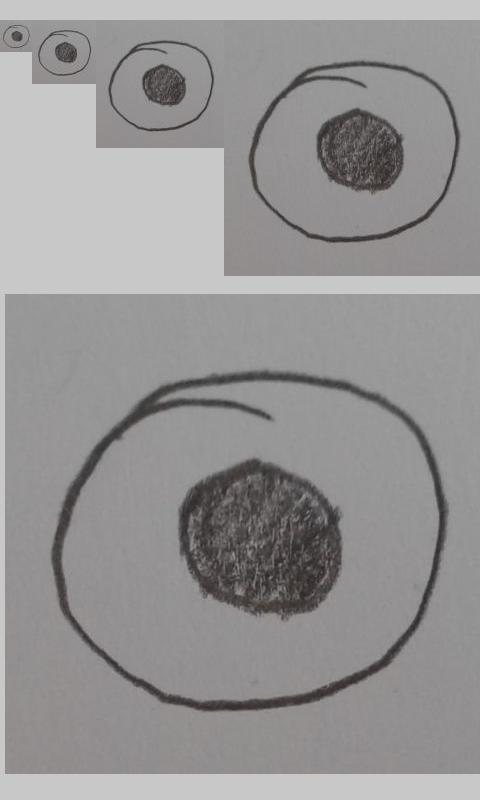radio_button: (49, 366, 449, 714), (246, 59, 462, 245), (107, 39, 214, 132), (37, 29, 92, 77), (2, 24, 30, 49)
